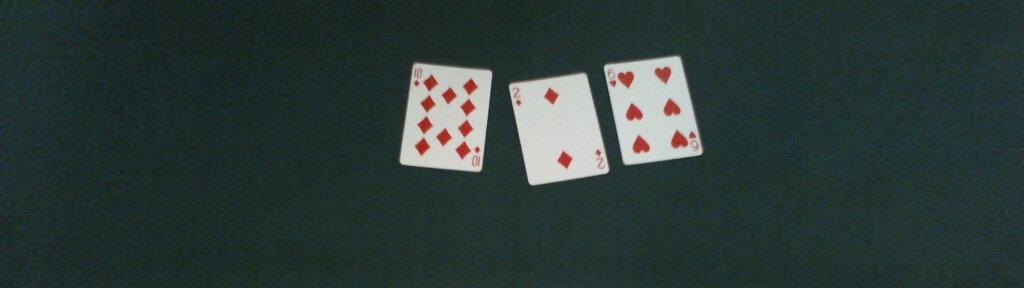six: (602, 57, 703, 165)
ten: (399, 62, 494, 172)
two: (509, 74, 610, 185)
